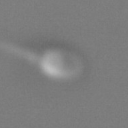normal: (1, 38, 41, 62)
